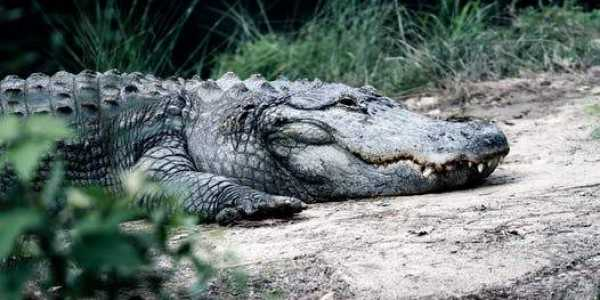Crocodile: (1, 68, 510, 235)
